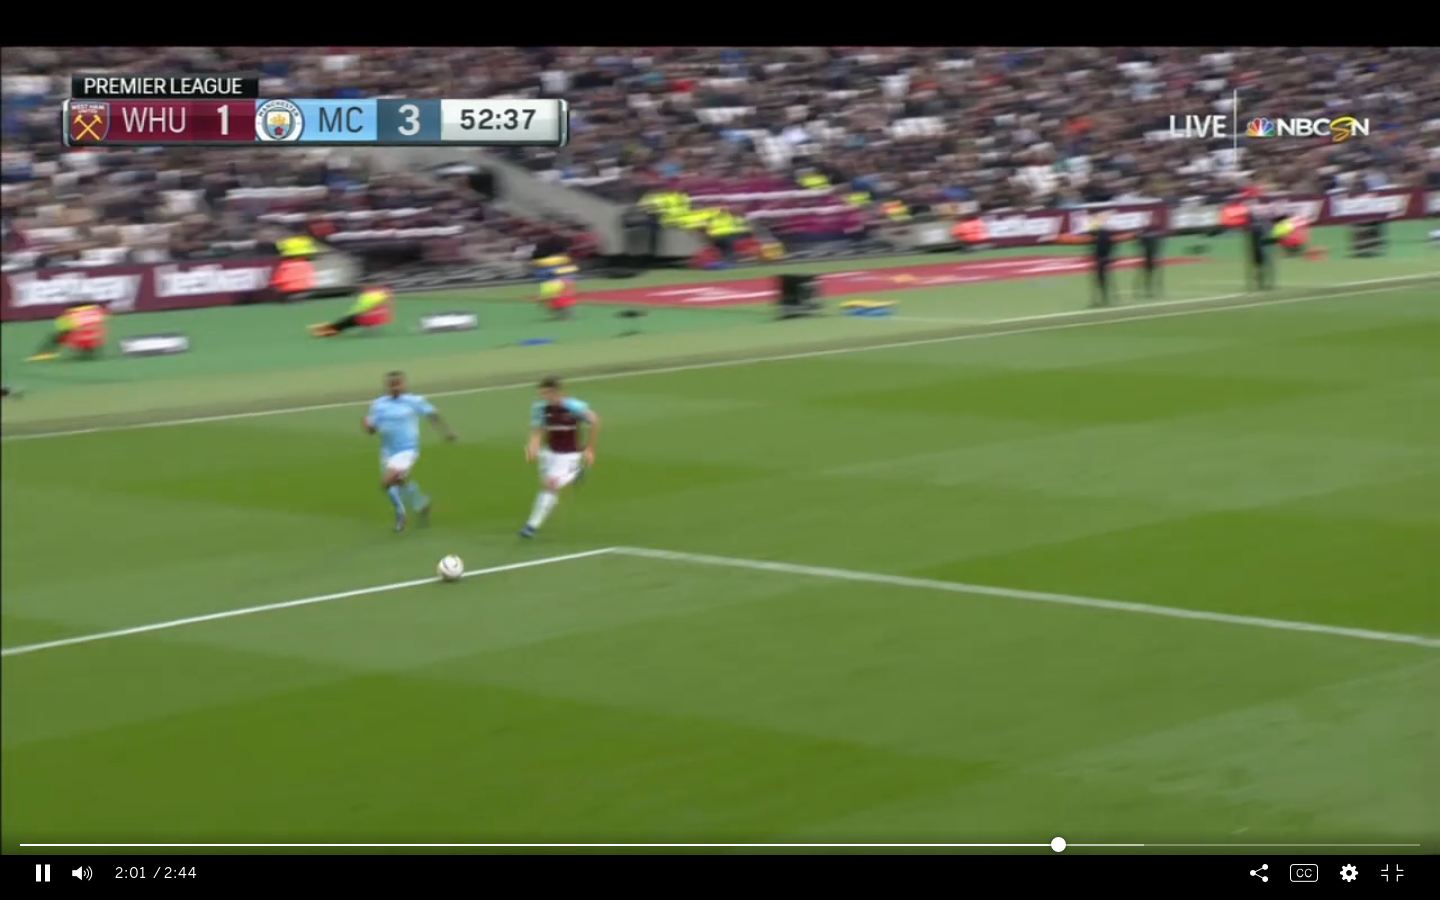soccer player: (359, 371, 458, 536), (513, 372, 598, 548)
soccerball: (435, 552, 468, 583)
